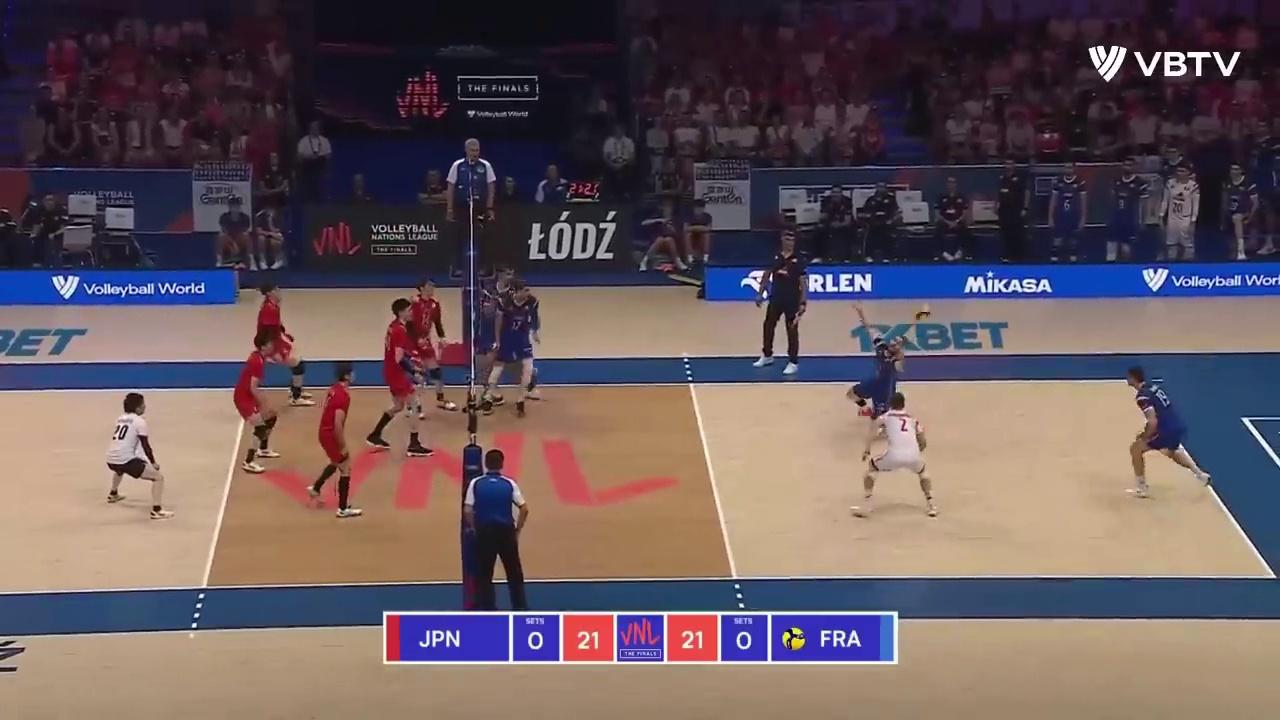ball: (913, 303, 934, 321)
